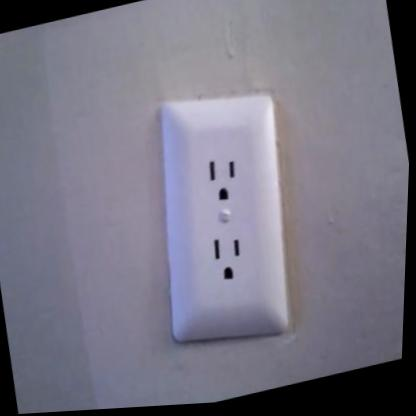OUTLET: (136, 87, 310, 344)
